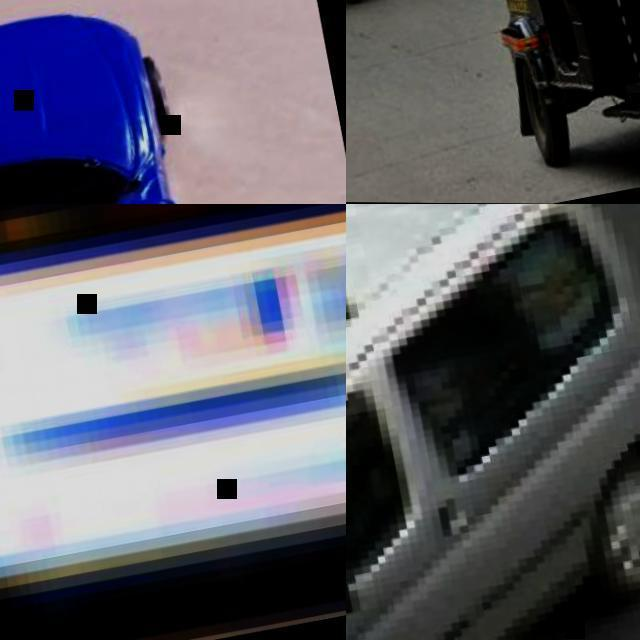car: (373, 202, 637, 638), (500, 0, 640, 168)
